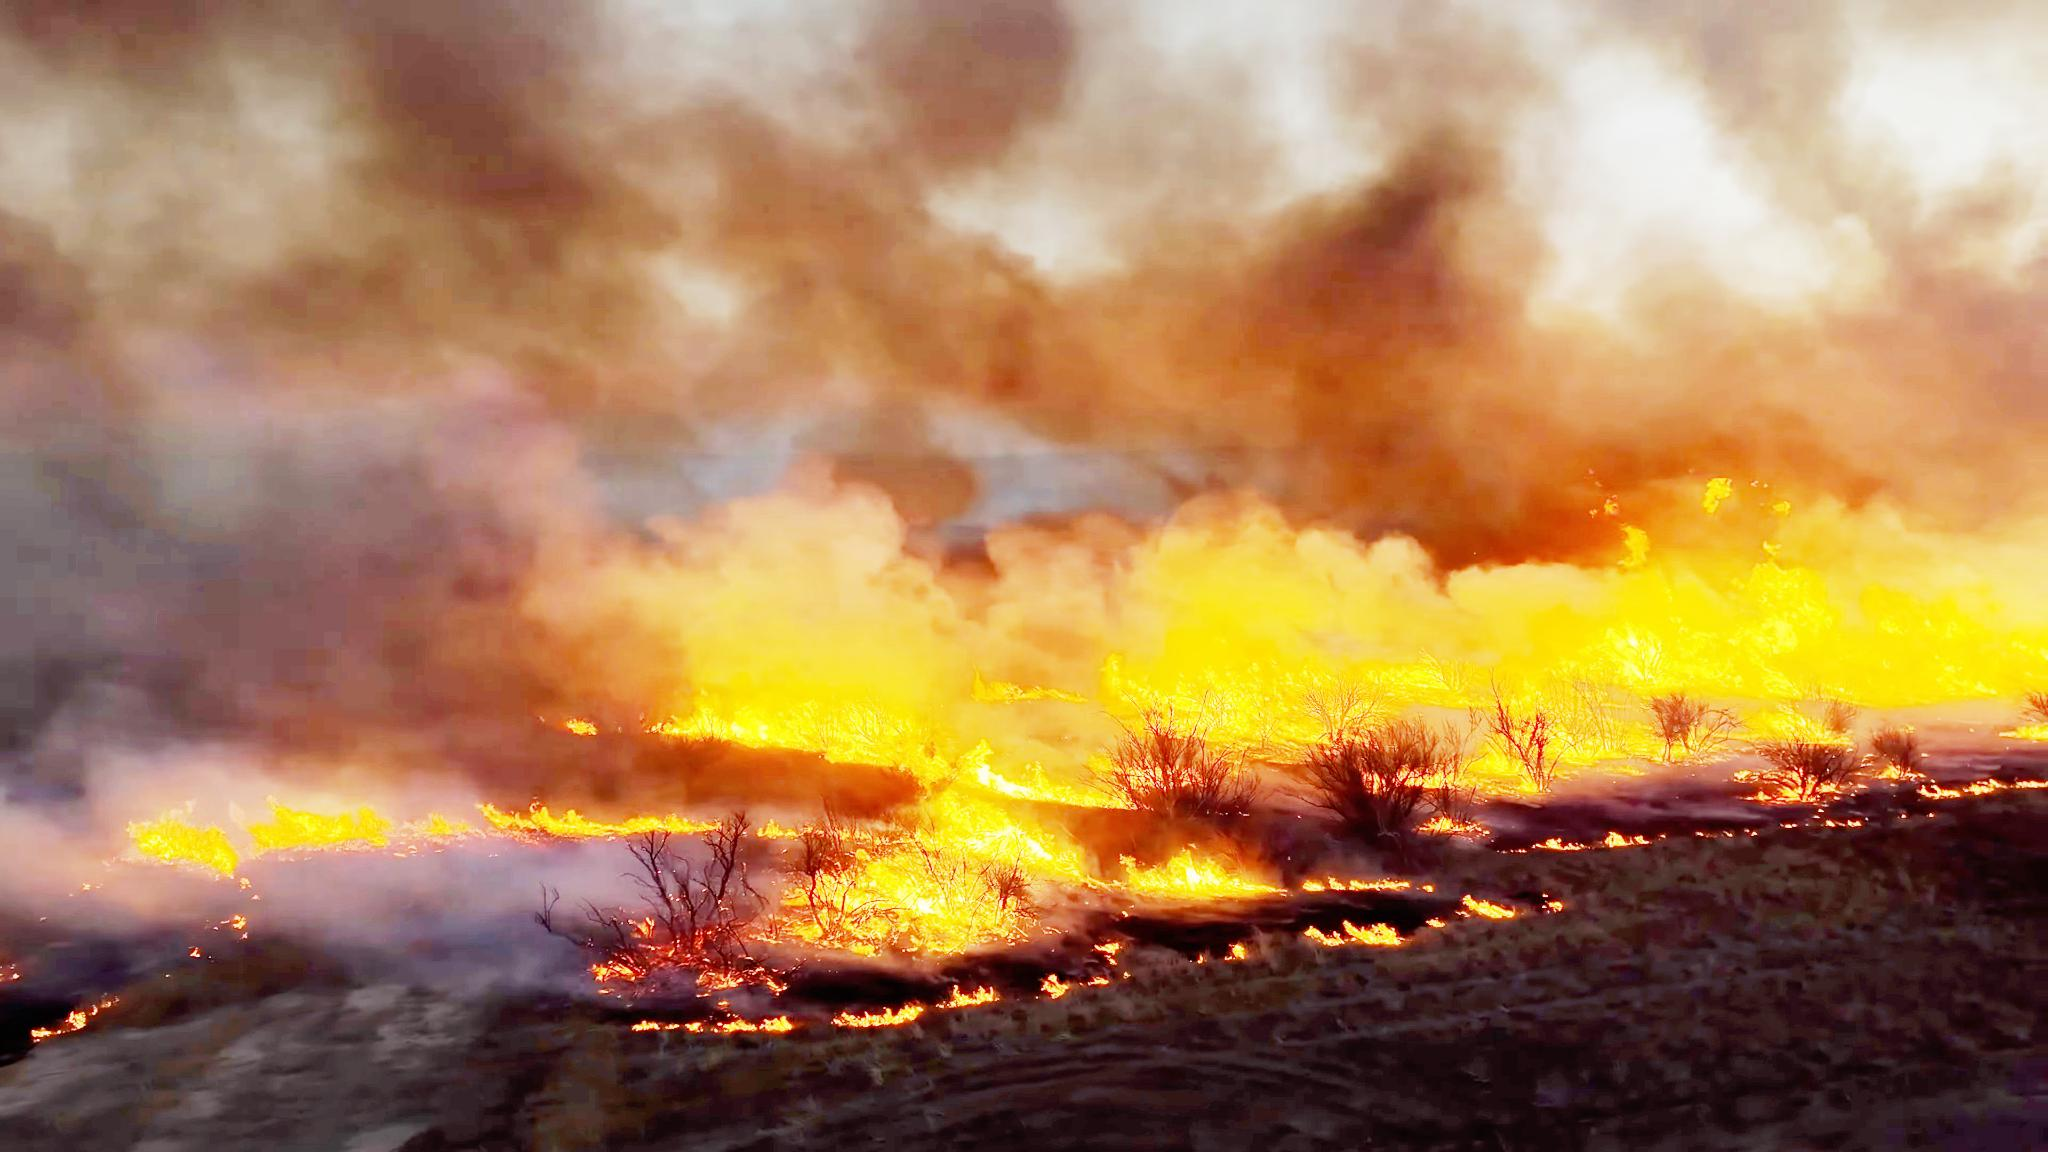fire: (924, 758, 1110, 933), (129, 764, 376, 892), (1601, 581, 1827, 713), (648, 684, 907, 783), (1051, 663, 1260, 764)
smoke: (416, 21, 1093, 630), (1166, 0, 1578, 623), (1636, 11, 2048, 544), (0, 0, 381, 387), (48, 409, 453, 720), (753, 0, 1062, 395)
